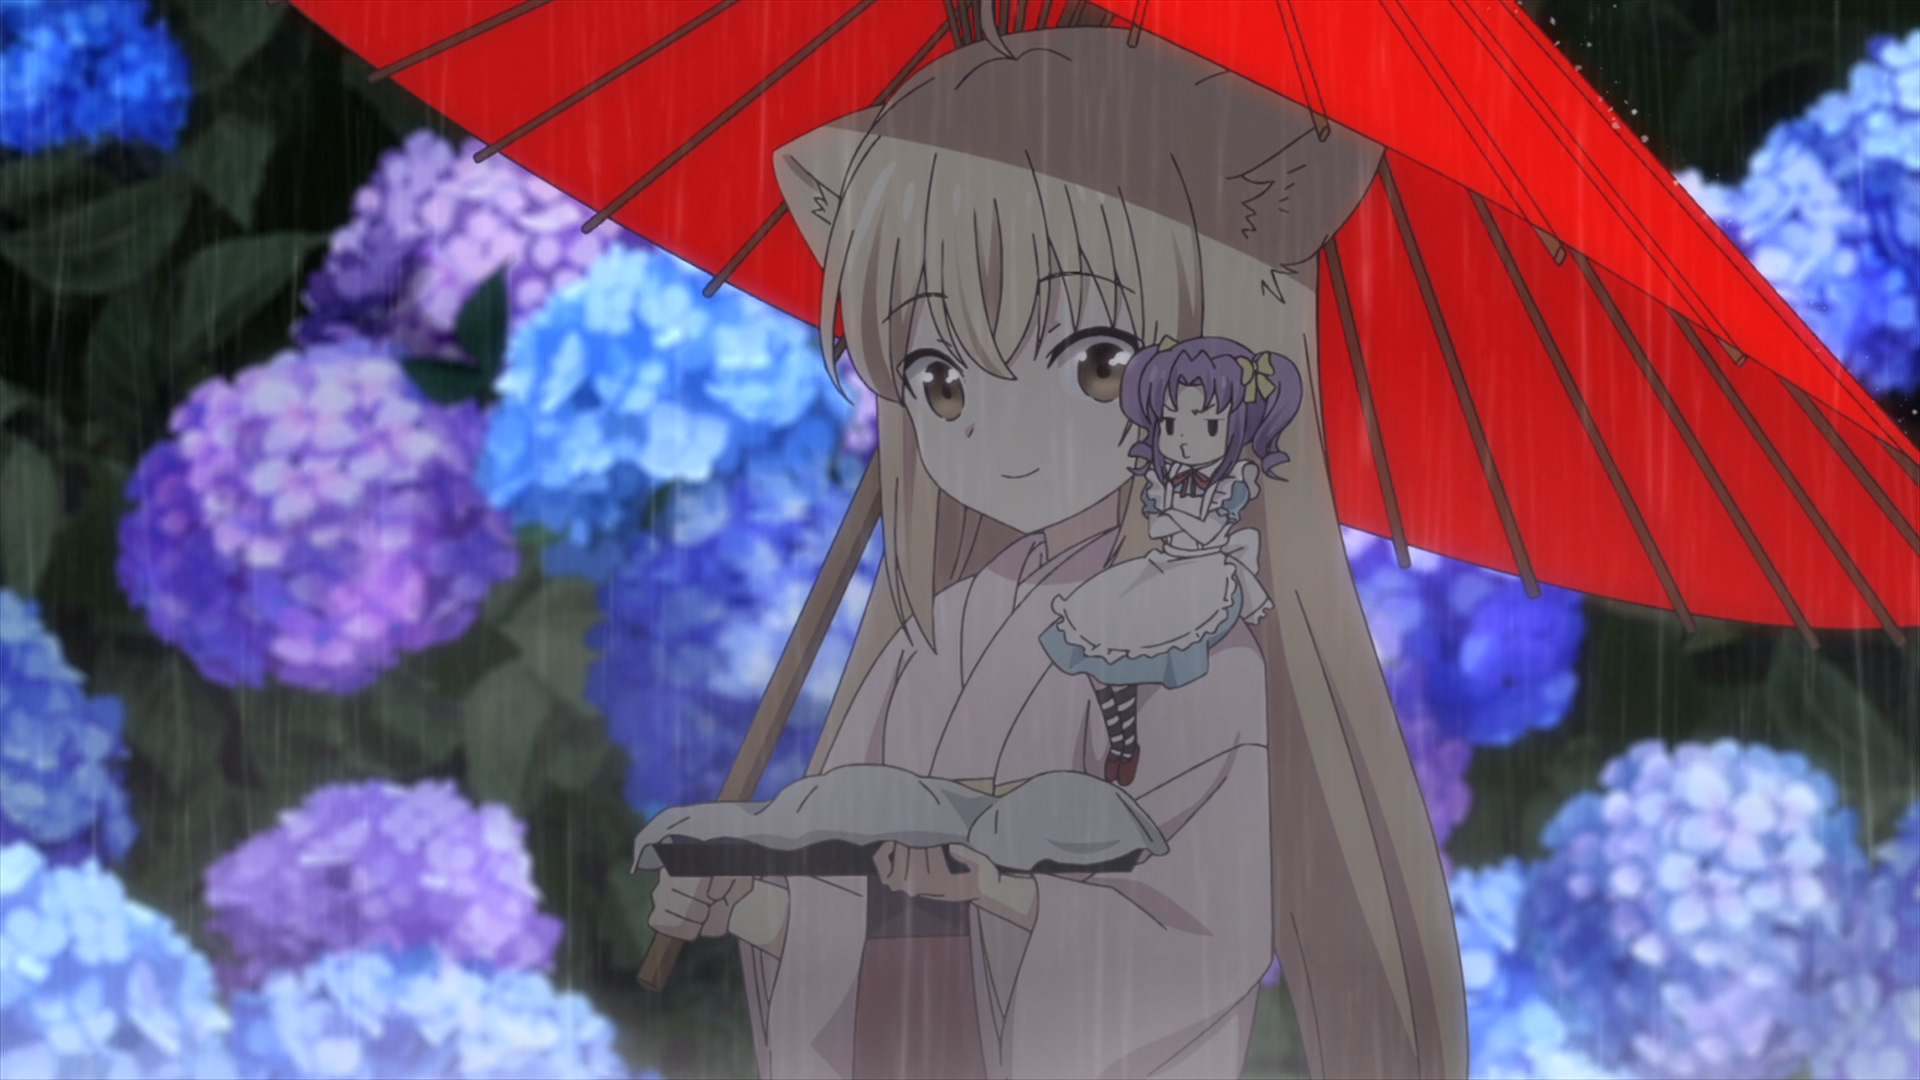柚: (645, 1, 1472, 1080)
阿菊: (1040, 338, 1304, 785)
